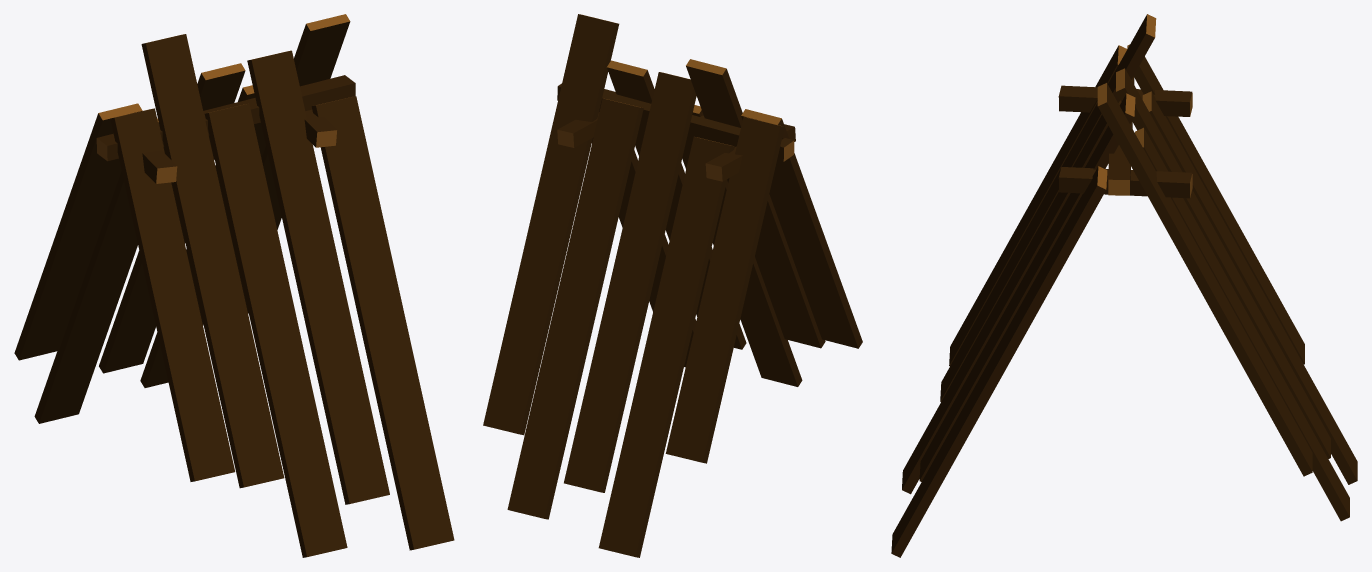
Rendered from FBX_CAHUTE.fbx.
3 views of the same model, side by side, from view 1: azimuth 30°, elevation 25°; view 2: azimuth 150°, elevation 25°; view 3: azimuth 270°, elevation 25° (orthographic). The views are drawn at different scales.
Visible parts, largest first — view 1: pCube47; view 2: pCube47; view 3: pCube47.
Part boxes in pixels (x1,y1,x2,y2): pCube47: (14, 14, 454, 557); pCube47: (483, 14, 862, 557); pCube47: (891, 14, 1357, 557).
Bounding box in the file's own units: 112 × 196 × 182.
